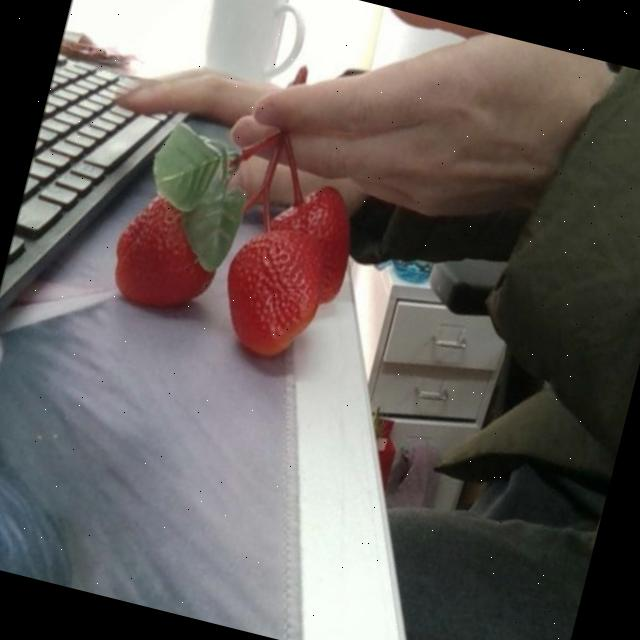strawberry: (105, 180, 232, 318), (209, 223, 331, 366), (255, 174, 366, 308)
